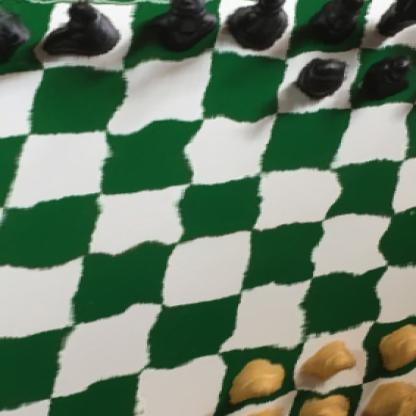black-bishop: (37, 1, 123, 62), (298, 0, 369, 47)
black-king: (217, 0, 305, 51)
black-knight: (0, 0, 41, 67), (374, 0, 416, 43)
black-pawn: (287, 53, 354, 108), (355, 48, 416, 104)
black-queen: (142, 0, 229, 55)
white-bishop: (208, 393, 297, 416)
white-knight: (290, 374, 364, 416)
white-pawn: (220, 346, 292, 411), (302, 330, 364, 386), (374, 314, 416, 372)
white-rook: (356, 366, 416, 416)
